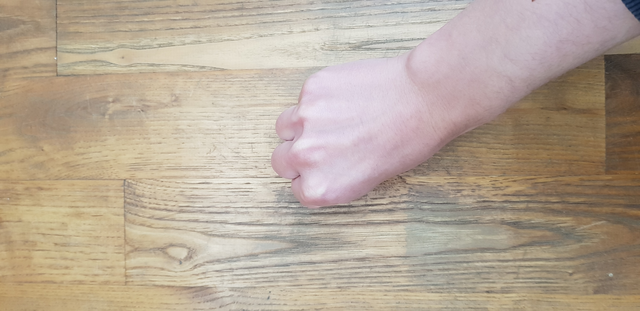Rock: (255, 59, 472, 215)
